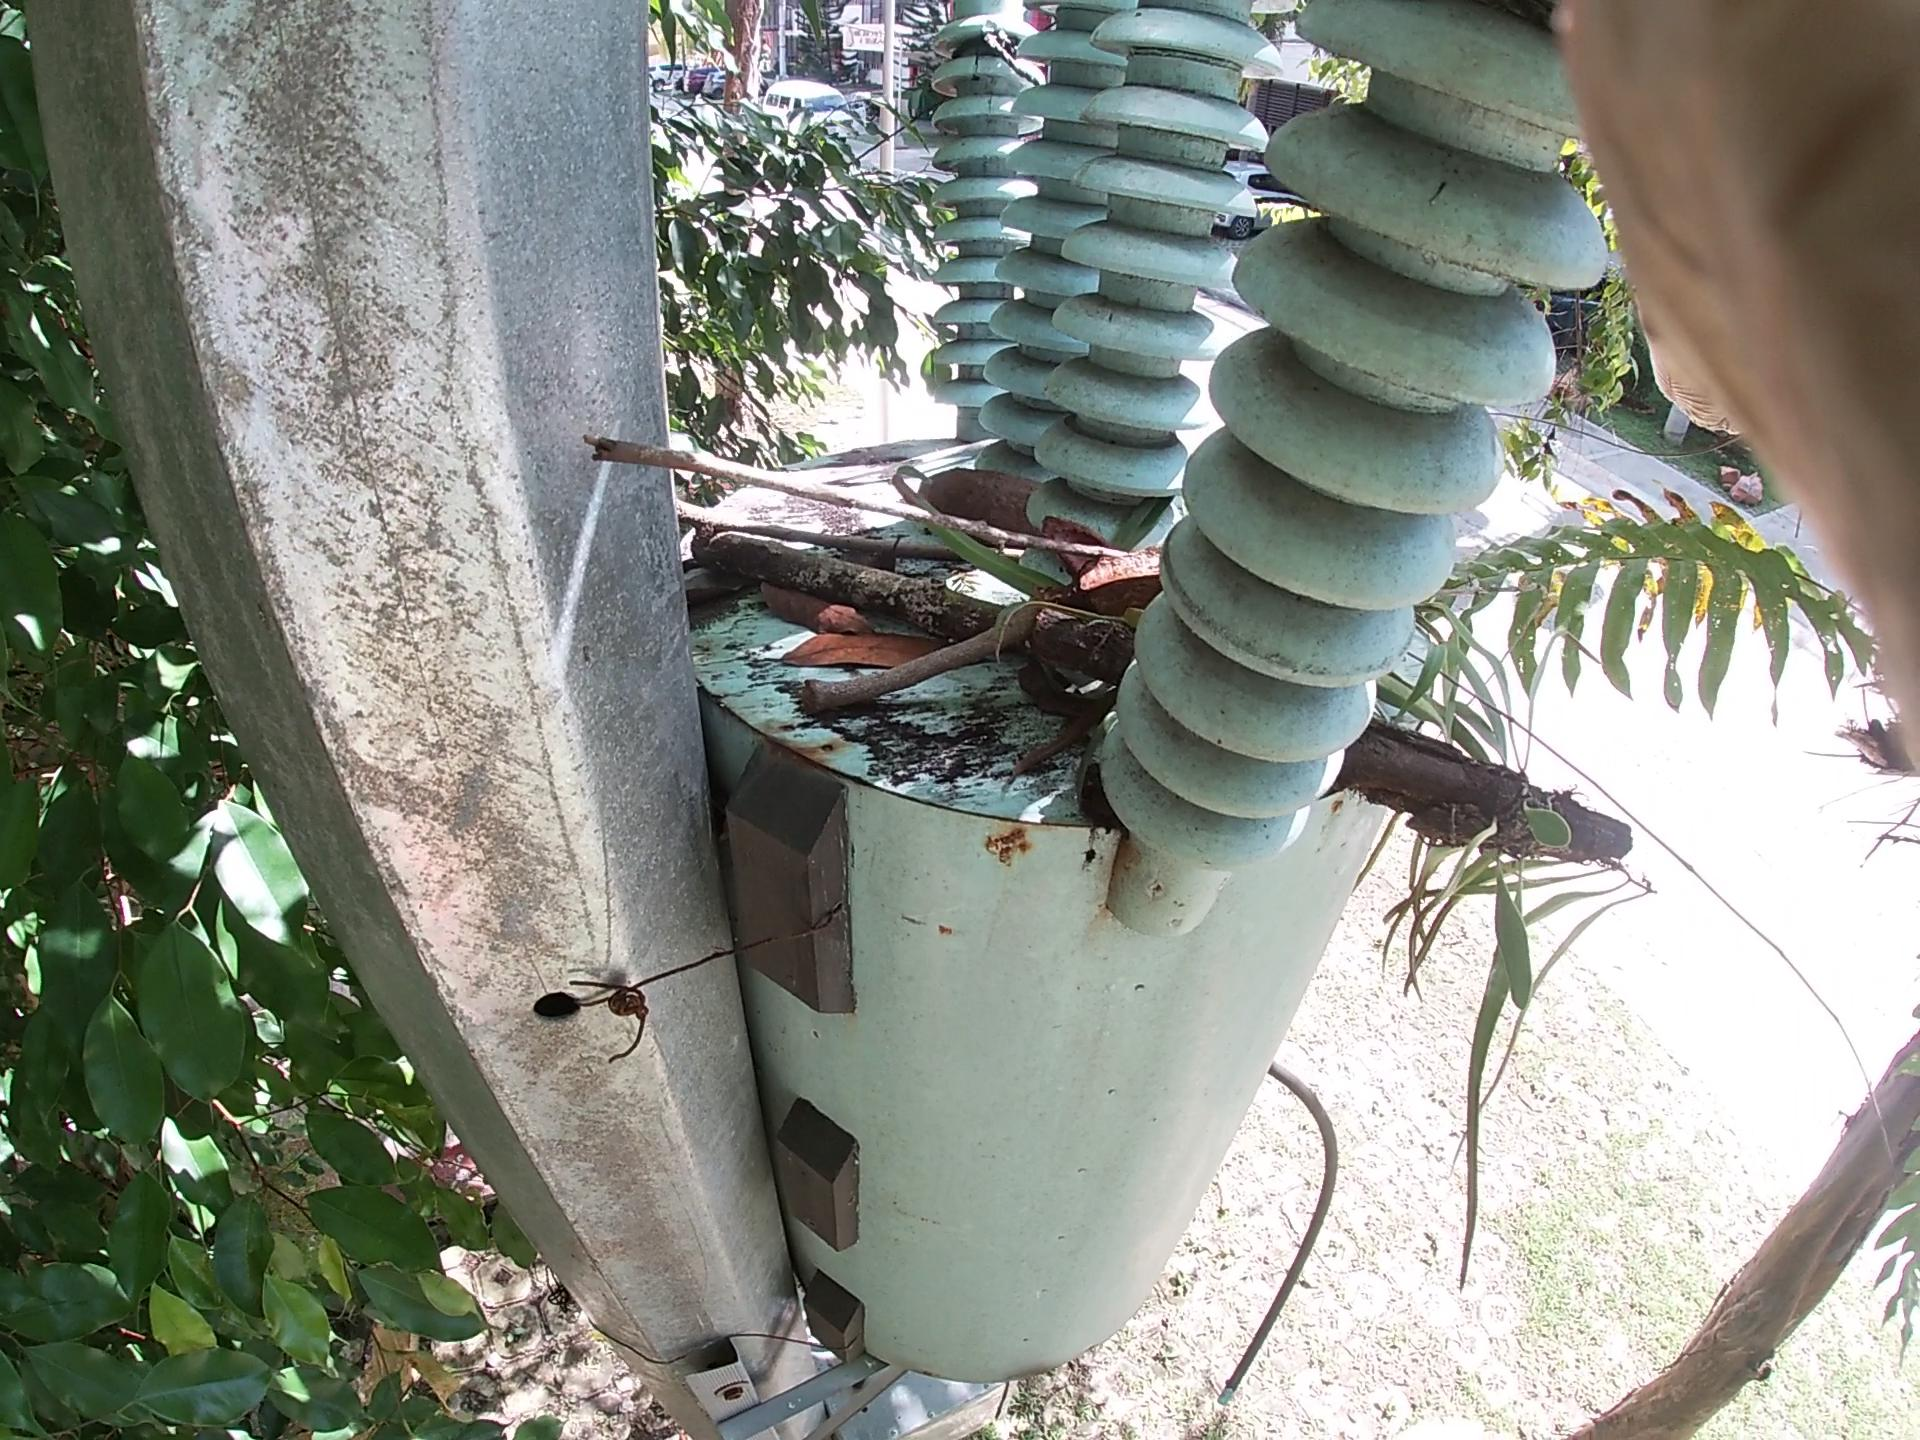branch with leaves: (692, 517, 1639, 935)
leaf: (759, 576, 881, 638), (774, 632, 949, 672)
mahogany fruit: (901, 433, 1172, 653)
tree branch: (578, 422, 1147, 579), (782, 605, 1095, 706), (673, 495, 1014, 570)
